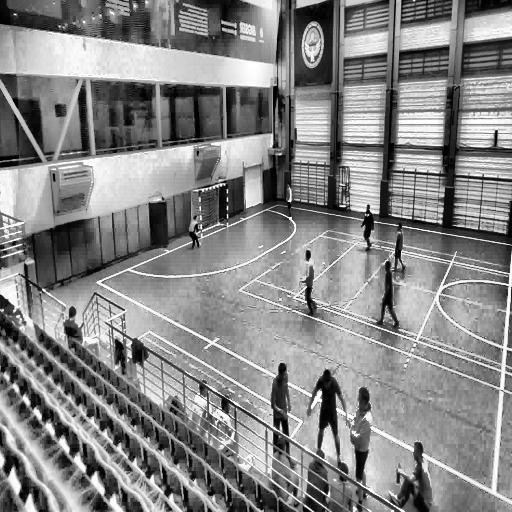player: (309, 369, 346, 467), (349, 386, 372, 500), (271, 361, 291, 450), (376, 258, 399, 327), (302, 249, 318, 317), (392, 220, 408, 274), (361, 206, 373, 252), (189, 212, 202, 250), (286, 181, 292, 217)
